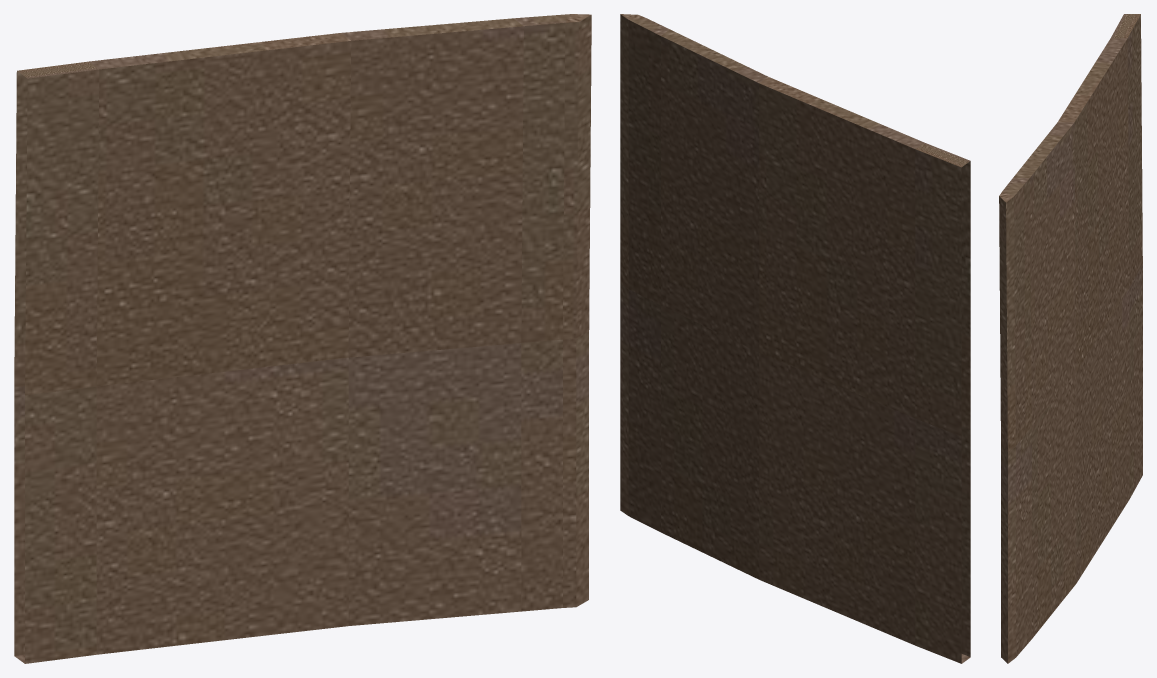
The model's file is paredes audio1.fbx.
The picture shows the model from 3 angles, left to right: view 1: azimuth 30°, elevation 25°; view 2: azimuth 150°, elevation 25°; view 3: azimuth 270°, elevation 25°; orthographic projection. The views are drawn at different scales.
Parts seen in each view (by area): view 1: parede audio1; view 2: parede audio1; view 3: parede audio1.
Part boxes in pixels (bbox=[...]): parede audio1: bbox=[14, 14, 591, 663]; parede audio1: bbox=[620, 14, 970, 663]; parede audio1: bbox=[999, 14, 1142, 663].
Size of the model in its own units: 2.1 by 2.4 by 0.6771.
Materials: 1 (1 with a texture image).
